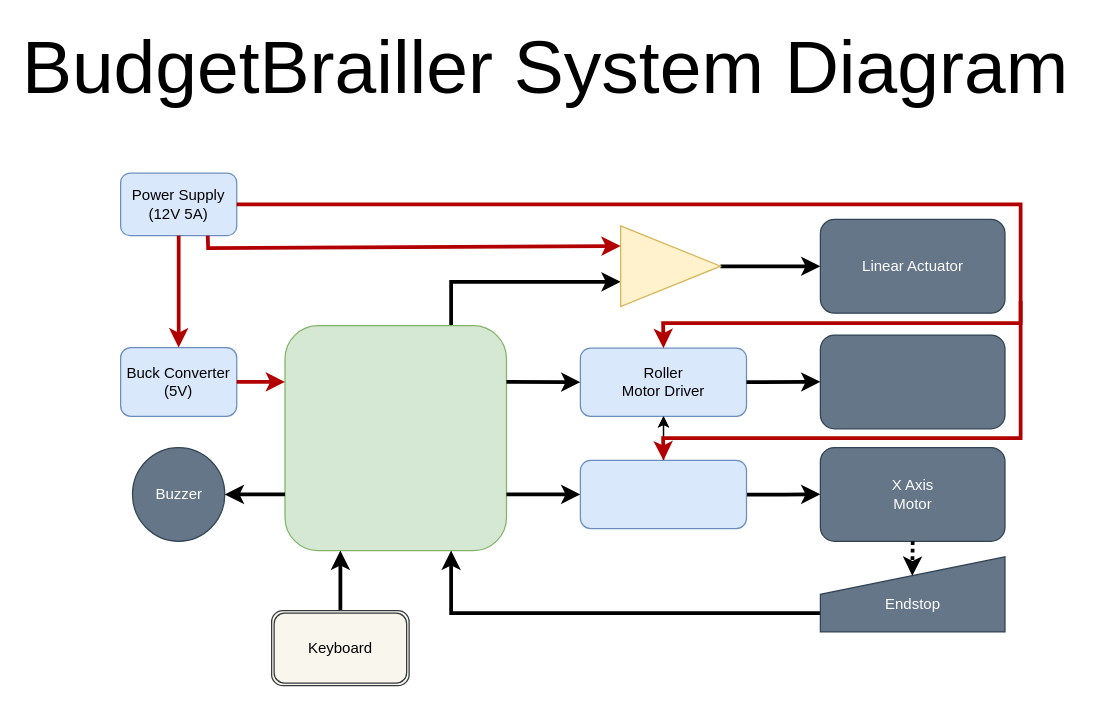
The diagram is 1093 pixels wide and 708 high, and some of its shapes have lost their labels. Each missing label, with the box of its shape:
ESP32 S2 Mini: (284, 324, 506, 551)
Roller Motor: (819, 334, 1005, 429)
Transistor: (619, 225, 721, 306)
X-Axis Motor Driver: (579, 459, 746, 528)
